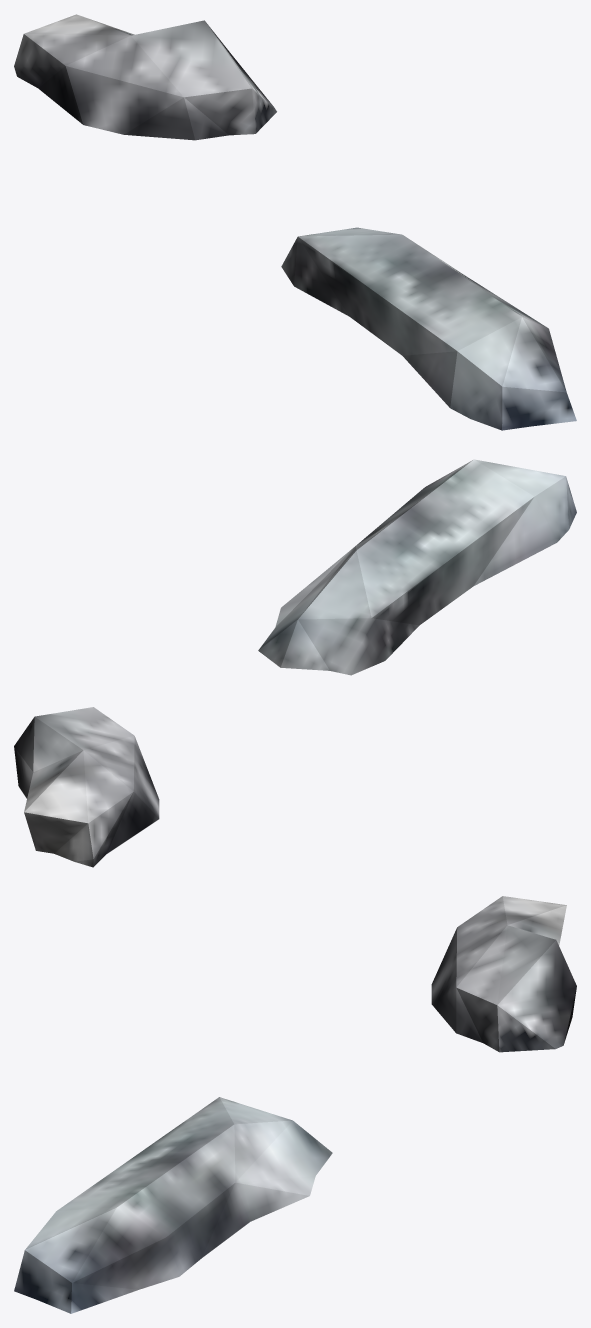
The picture shows the model from 3 angles, top to bottom: view 1: azimuth 30°, elevation 25°; view 2: azimuth 150°, elevation 25°; view 3: azimuth 330°, elevation 25°; orthographic projection.
Size of the model in its own units: 0.0695 by 0.0277 by 0.3395.
Materials: 1 (1 with a texture image).
